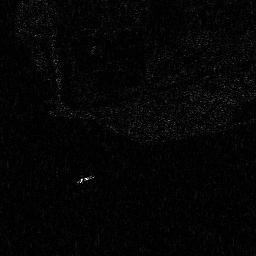ship: (74, 172, 97, 184)
